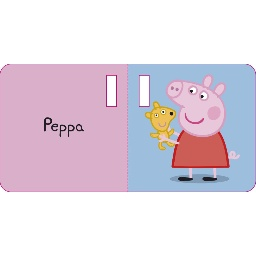Peppa: (159, 76, 240, 183)
